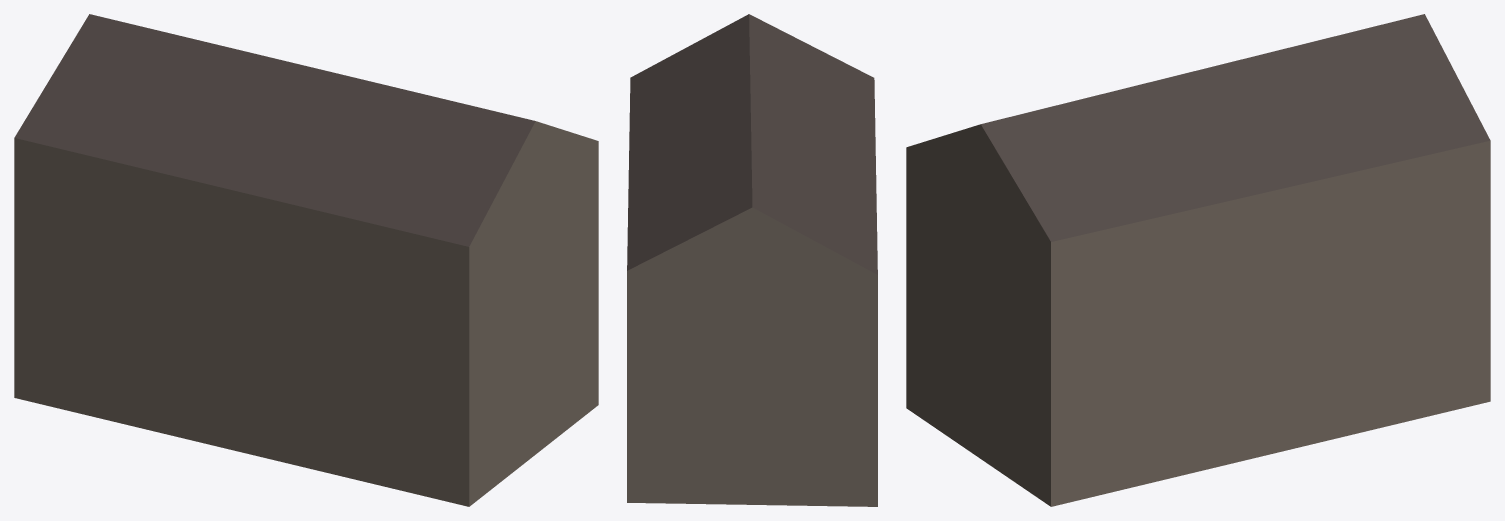
The picture shows the model from 3 angles, left to right: view 1: azimuth 30°, elevation 25°; view 2: azimuth 150°, elevation 25°; view 3: azimuth 270°, elevation 25°; orthographic projection. The views are drawn at different scales.
Visible parts, largest first — view 1: HP-w859086175; view 2: HP-w859086175; view 3: HP-w859086175.
Boxes of the visible parts, x1,y1,x2,y2 form: HP-w859086175: [14, 14, 598, 506]; HP-w859086175: [627, 14, 877, 506]; HP-w859086175: [906, 14, 1490, 506].
Bounding box in the file's own units: 15.61 × 11.55 × 18.26.
